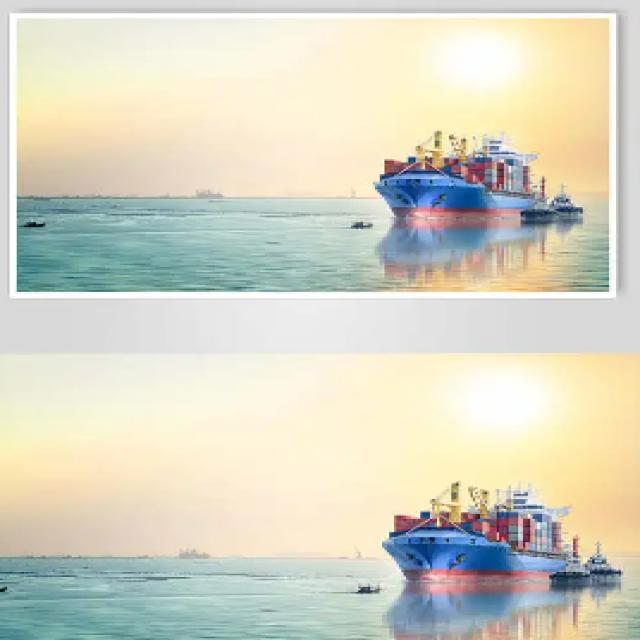cargoship: (356, 118, 562, 243), (380, 474, 572, 603)
